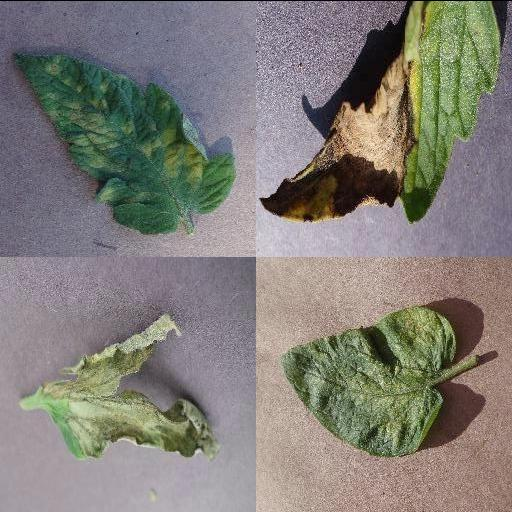Late Blight: (258, 0, 502, 227), (46, 312, 222, 460)
Leaf Mold: (11, 50, 235, 232)
Spider Mites: (280, 304, 456, 454)
